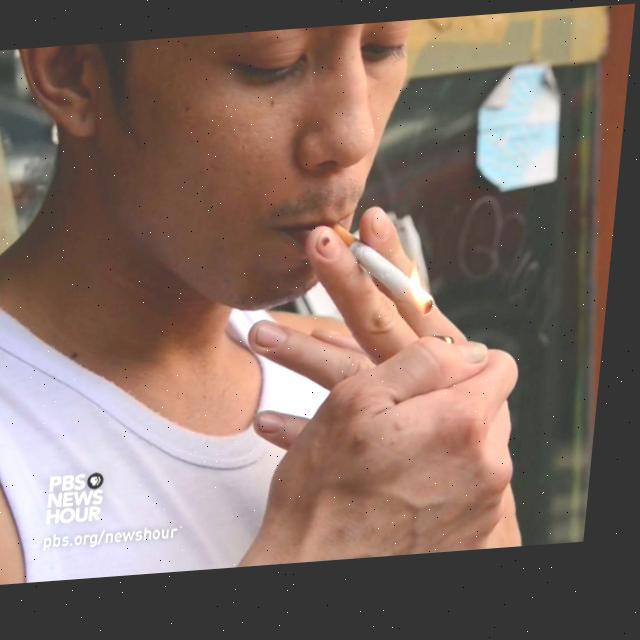cigarette: (329, 222, 447, 330)
